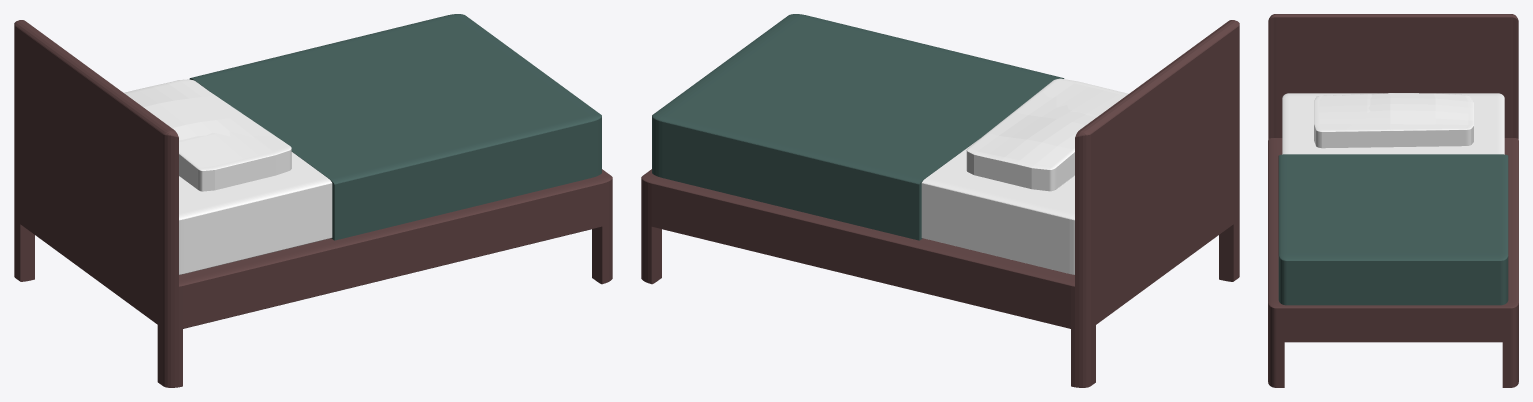
Rendered from bed.fbx.
3 renders of one model, left to right at view 1: azimuth 30°, elevation 25°; view 2: azimuth 150°, elevation 25°; view 3: azimuth 270°, elevation 25°, orthographic. The views are drawn at different scales.
Parts seen in each view (by area): view 1: BedFrame, Sheet, Mattress, Pillow; view 2: BedFrame, Sheet, Mattress, Pillow; view 3: BedFrame, Sheet, Pillow, Mattress.
Part boxes in pixels (x1=…): BedFrame: x1=14, y1=20, x2=612, y2=387; Sheet: x1=189, y1=14, x2=601, y2=240; Mattress: x1=179, y1=80, x2=332, y2=274; Pillow: x1=124, y1=79, x2=291, y2=191; BedFrame: x1=641, y1=20, x2=1239, y2=387; Sheet: x1=652, y1=14, x2=1064, y2=240; Mattress: x1=921, y1=140, x2=1074, y2=274; Pillow: x1=966, y1=78, x2=1128, y2=191; BedFrame: x1=1268, y1=14, x2=1518, y2=387; Sheet: x1=1278, y1=154, x2=1508, y2=305; Pillow: x1=1314, y1=93, x2=1473, y2=148; Mattress: x1=1282, y1=93, x2=1504, y2=154.
Bounding box in the file's own units: 213 × 116 × 130.
